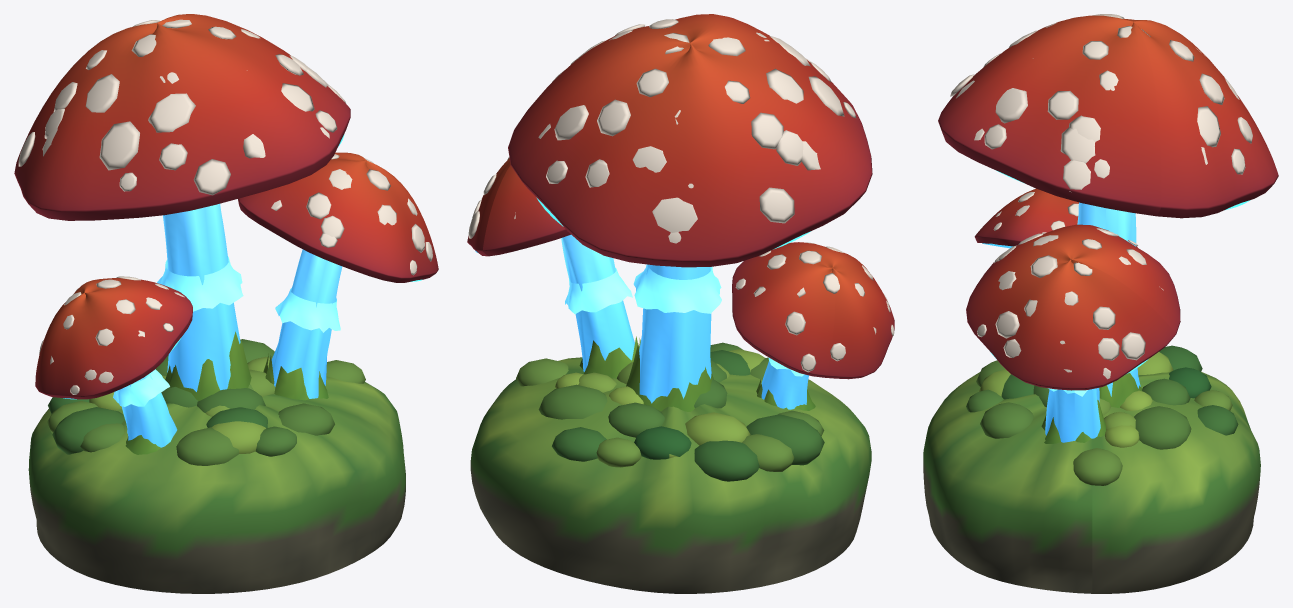
File: 18-mushrooms.glb
3 renders of one model, left to right at view 1: azimuth 30°, elevation 25°; view 2: azimuth 150°, elevation 25°; view 3: azimuth 270°, elevation 25°, orthographic. The views are drawn at different scales.
Parts seen in each view (by area): view 1: mushrooms; view 2: mushrooms; view 3: mushrooms.
Part boxes in pixels (left/top/right/bottom): mushrooms: left=14, top=14, right=438, bottom=593; mushrooms: left=467, top=14, right=894, bottom=593; mushrooms: left=923, top=14, right=1278, bottom=593.
Size of the model in its own units: 7.26 by 8.89 by 5.96.
